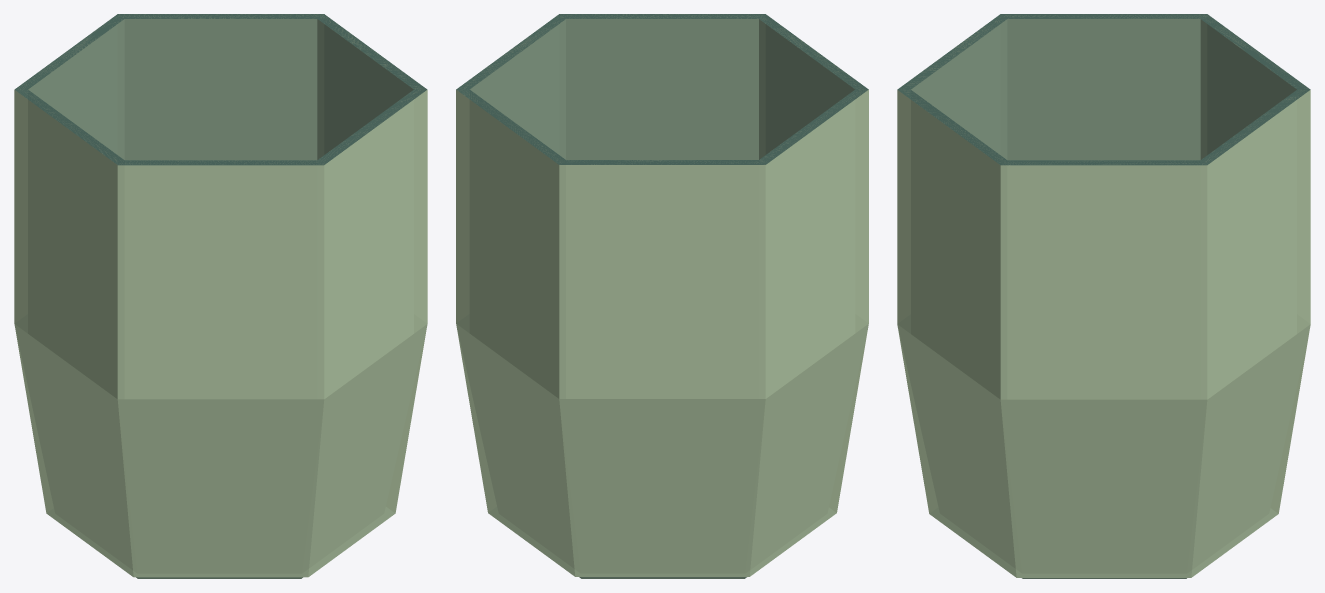
Rendered from Cup2.dae.
3 renders of one model, left to right at view 1: azimuth 30°, elevation 25°; view 2: azimuth 150°, elevation 25°; view 3: azimuth 270°, elevation 25°, orthographic.
Parts seen in each view (by area): view 1: SketchUp (×3); view 2: SketchUp (×3); view 3: SketchUp (×3).
Boxes of the visible parts, bbox=[...] form: SketchUp (×3): bbox=[14, 14, 427, 577]; SketchUp (×3): bbox=[456, 14, 868, 576]; SketchUp (×3): bbox=[897, 14, 1310, 577].
Bounding box in the file's own units: 49.69 × 57.37 × 65.84.
